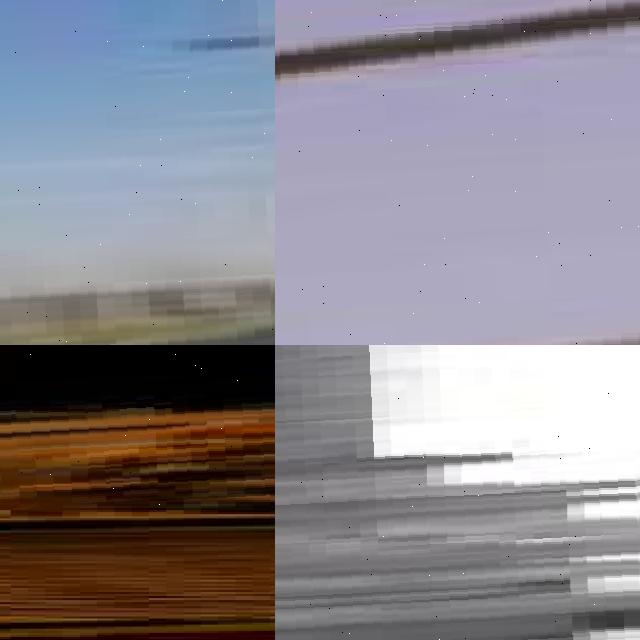street light: (275, 0, 640, 345), (275, 345, 640, 640), (0, 0, 275, 345), (0, 345, 275, 510)
